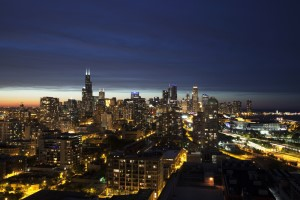willis: (80, 60, 94, 98)
